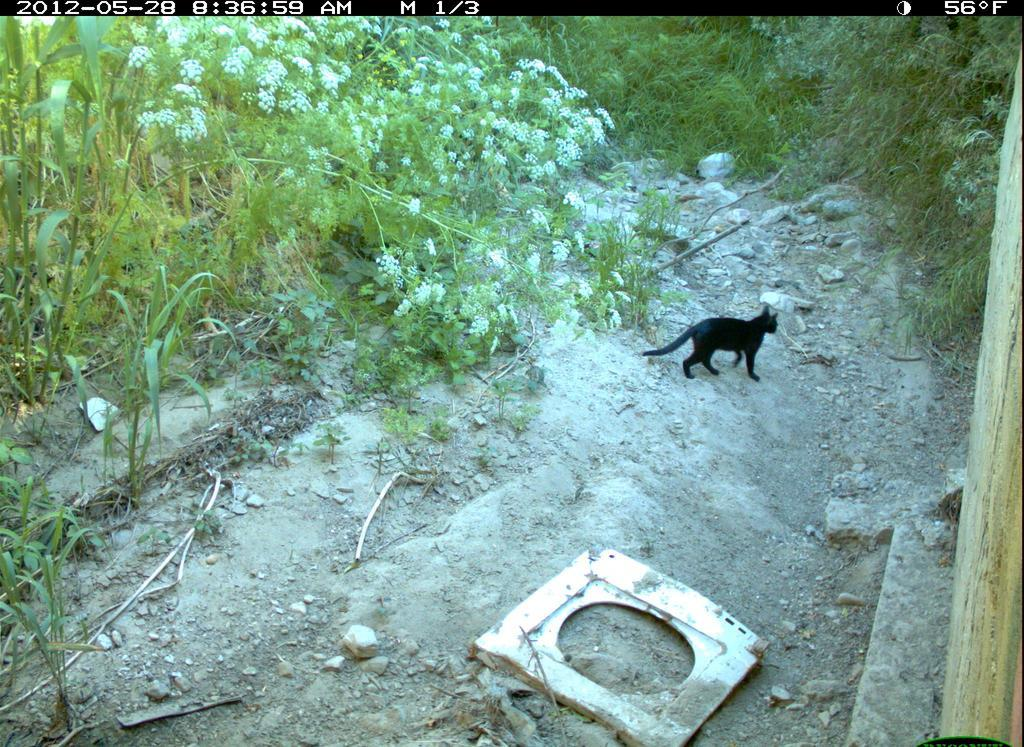cat: (642, 296, 788, 395)
